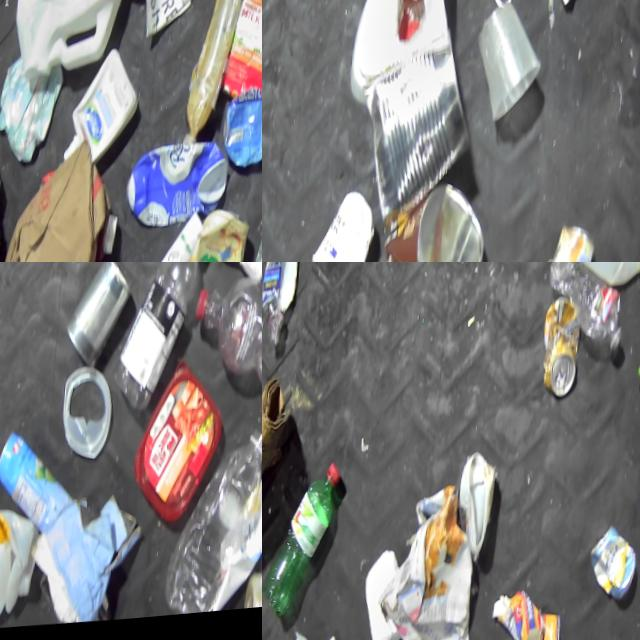can: (356, 31, 479, 229), (375, 184, 495, 262), (0, 427, 80, 539), (67, 262, 136, 374), (63, 368, 120, 466), (591, 529, 640, 609), (223, 91, 262, 176), (542, 228, 601, 262)
milk_jug: (11, 0, 125, 83), (0, 500, 49, 633), (458, 454, 501, 566), (534, 262, 640, 299)
non_white_jug: (127, 143, 232, 234), (224, 0, 262, 103)
plastic_bottle: (171, 431, 262, 621), (118, 262, 210, 420), (193, 277, 262, 418), (544, 262, 629, 363), (262, 262, 300, 345)
